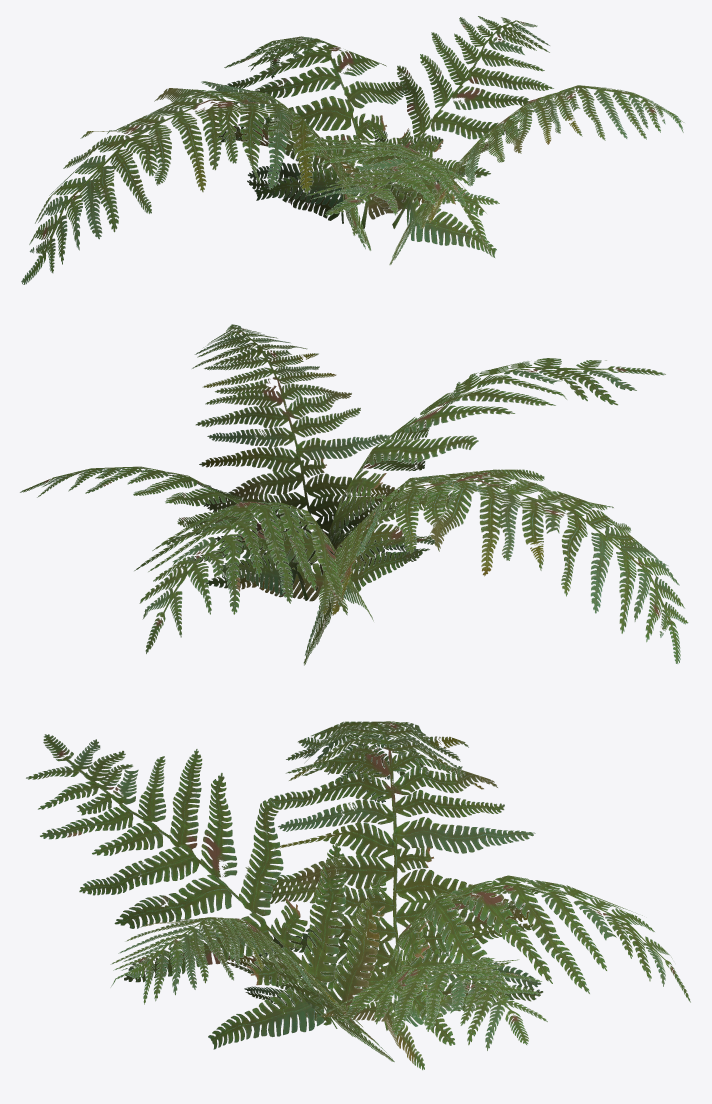
File: Fol_Fern2.fbx
The picture shows the model from 3 angles, top to bottom: view 1: azimuth 30°, elevation 25°; view 2: azimuth 150°, elevation 25°; view 3: azimuth 270°, elevation 25°; orthographic projection. The views are drawn at different scales.
Parts seen in each view (by area): view 1: Fol_Fern2; view 2: Fol_Fern2; view 3: Fol_Fern2.
Boxes of the visible parts, x1,y1,x2,y2 form: Fol_Fern2: [21, 16, 684, 284]; Fol_Fern2: [20, 324, 688, 665]; Fol_Fern2: [26, 721, 690, 1070].
Bounding box in the file's own units: 126 × 39.7 × 110.
